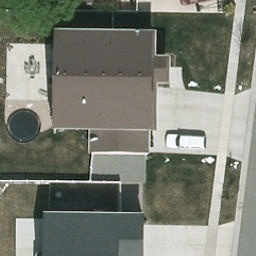car: (165, 135, 209, 152), (179, 0, 221, 6)
